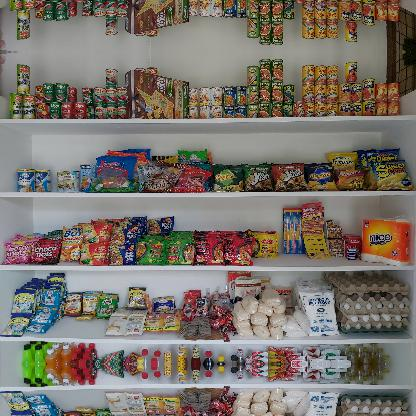Koko-Krunch: (125, 70, 189, 118), (125, 0, 190, 35)
